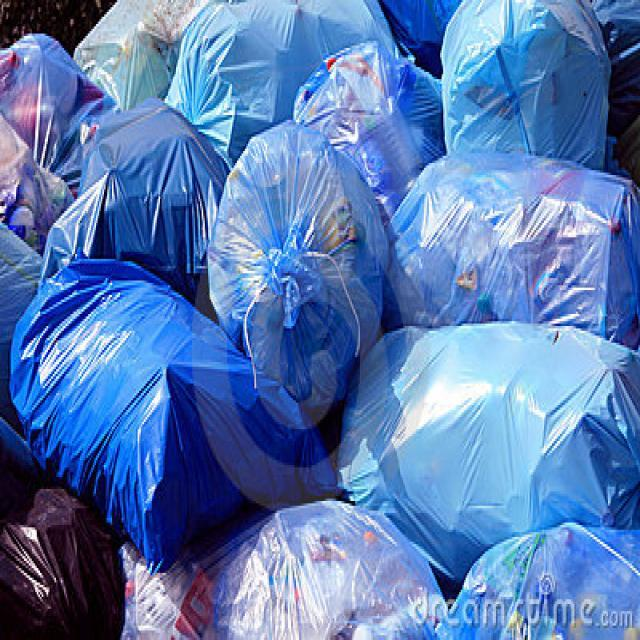plastic: (273, 405, 640, 640), (1, 257, 189, 627), (401, 118, 640, 348), (201, 110, 389, 398)
